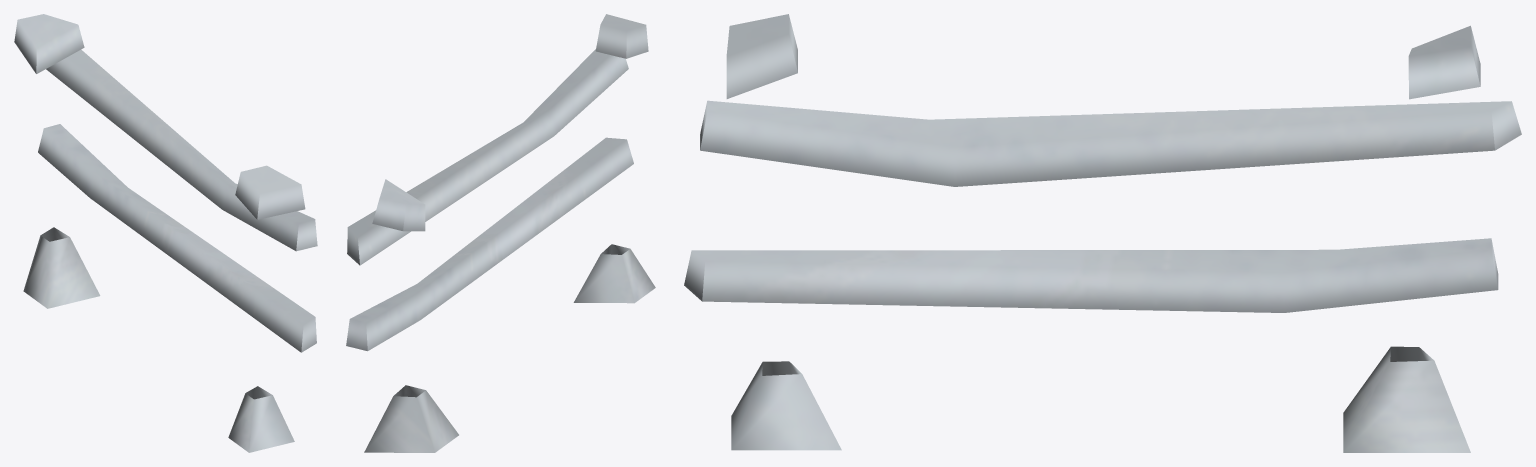
Rendered from Fence_2_Snow.fbx.
3 renders of one model, left to right at view 1: azimuth 30°, elevation 25°; view 2: azimuth 150°, elevation 25°; view 3: azimuth 270°, elevation 25°, orthographic. The views are drawn at different scales.
Parts seen in each view (by area): view 1: Fence_2_Snow; view 2: Fence_2_Snow; view 3: Fence_2_Snow.
Part boxes in pixels (x1,y1,x2,y2): Fence_2_Snow: (14, 14, 317, 452); Fence_2_Snow: (346, 14, 655, 452); Fence_2_Snow: (684, 14, 1521, 452).
Bounding box in the file's own units: 24.27 × 98.42 × 183.
